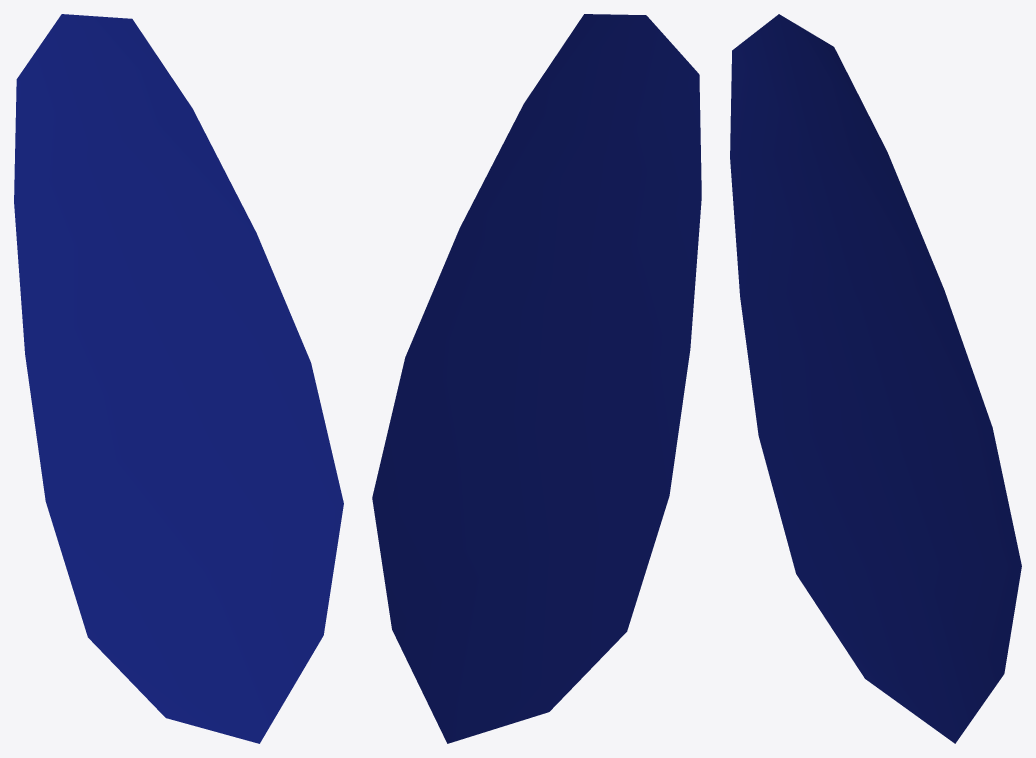
File: lovebird_feather_flight_secondary_025.001.obj
3 renders of one model, left to right at view 1: azimuth 30°, elevation 25°; view 2: azimuth 150°, elevation 25°; view 3: azimuth 330°, elevation 25°, orthographic. The views are drawn at different scales.
Visible parts, largest first — view 1: feather_flight_secondary_025.001; view 2: feather_flight_secondary_025.001; view 3: feather_flight_secondary_025.001.
Boxes of the visible parts, x1,y1,x2,y2 form: feather_flight_secondary_025.001: (14, 14, 343, 743); feather_flight_secondary_025.001: (372, 14, 701, 743); feather_flight_secondary_025.001: (730, 14, 1021, 743).
Size of the model in its own units: 0.00744 by 0.0168 by 0.000194.
